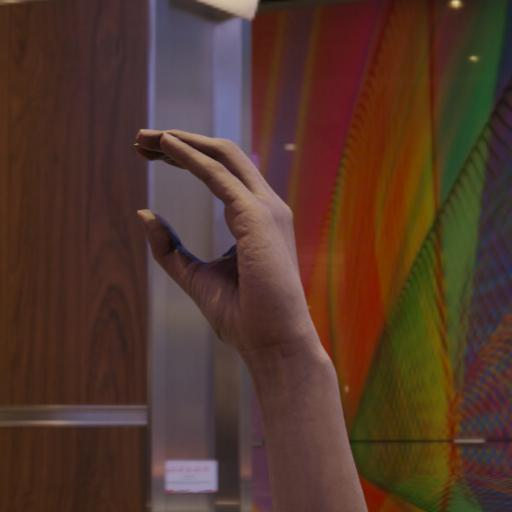C: (121, 117, 330, 363)
